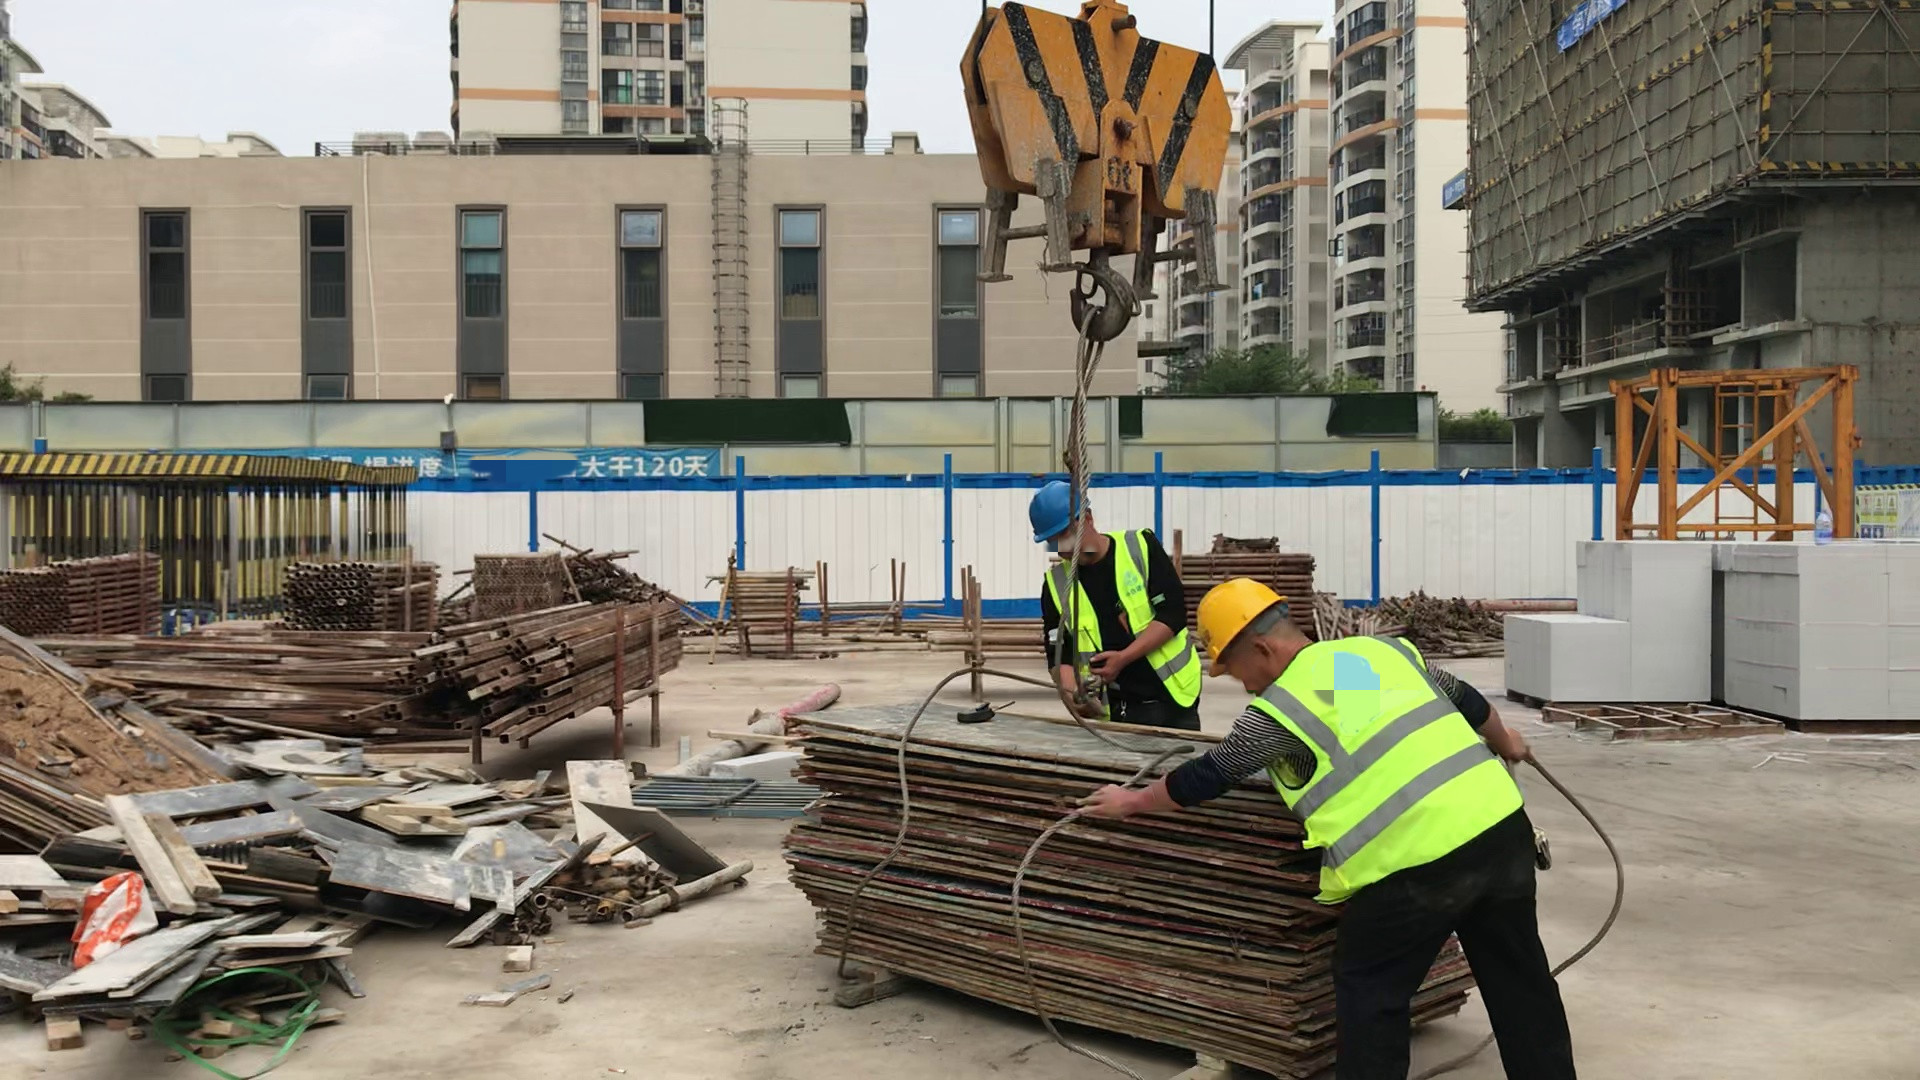board: (774, 694, 1336, 1068)
brick: (1499, 531, 1920, 733)
helmet: (1198, 578, 1287, 677), (1033, 480, 1086, 545)
hook: (955, 3, 1248, 342)
person: (1080, 572, 1578, 1080), (1028, 479, 1200, 726)
scaffold: (10, 552, 161, 633), (283, 557, 437, 633), (1188, 555, 1314, 635), (473, 553, 563, 613), (717, 572, 807, 622)
slogan: (300, 451, 718, 479), (1559, 1, 1612, 53)
vest: (1256, 636, 1523, 903), (1045, 531, 1199, 707)
